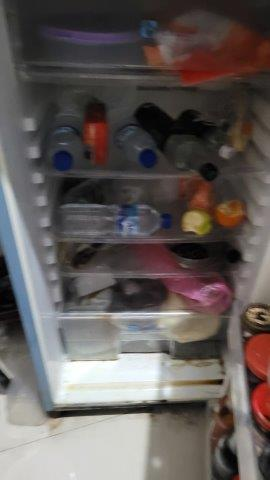botolkaca: (132, 99, 219, 180)
